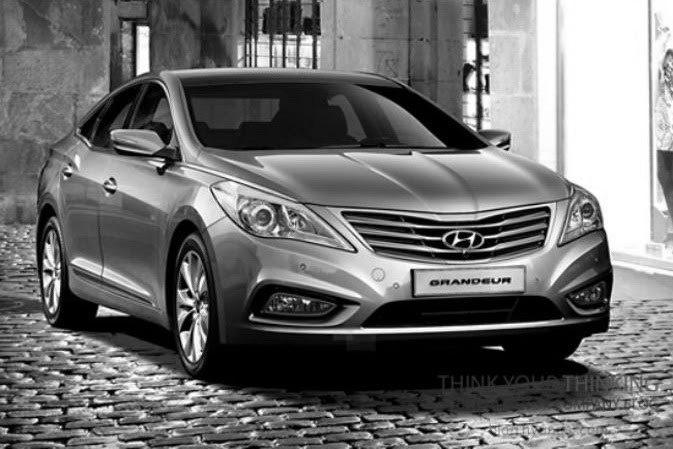car: (35, 67, 614, 383)
